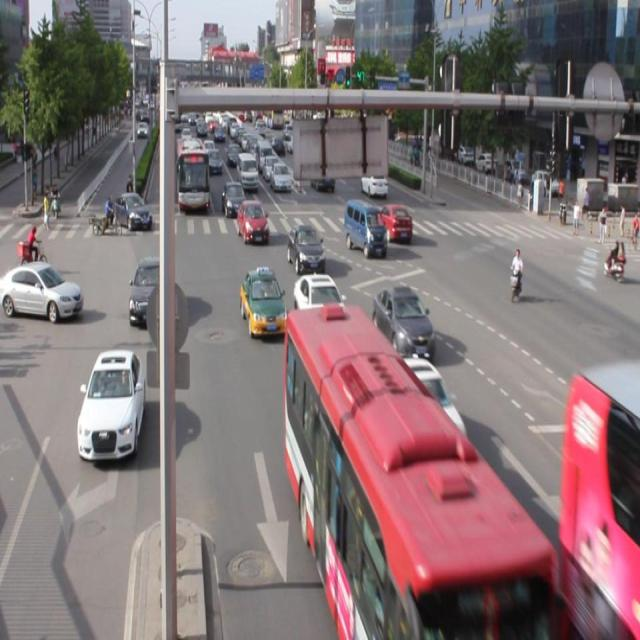car: (78, 348, 146, 461), (396, 354, 469, 459), (372, 285, 434, 362), (240, 266, 288, 340), (293, 272, 346, 336), (129, 256, 170, 326), (286, 223, 325, 271), (236, 199, 268, 244), (378, 203, 413, 244)
truck: (343, 198, 386, 258)
van: (285, 304, 551, 640), (560, 365, 640, 640)
